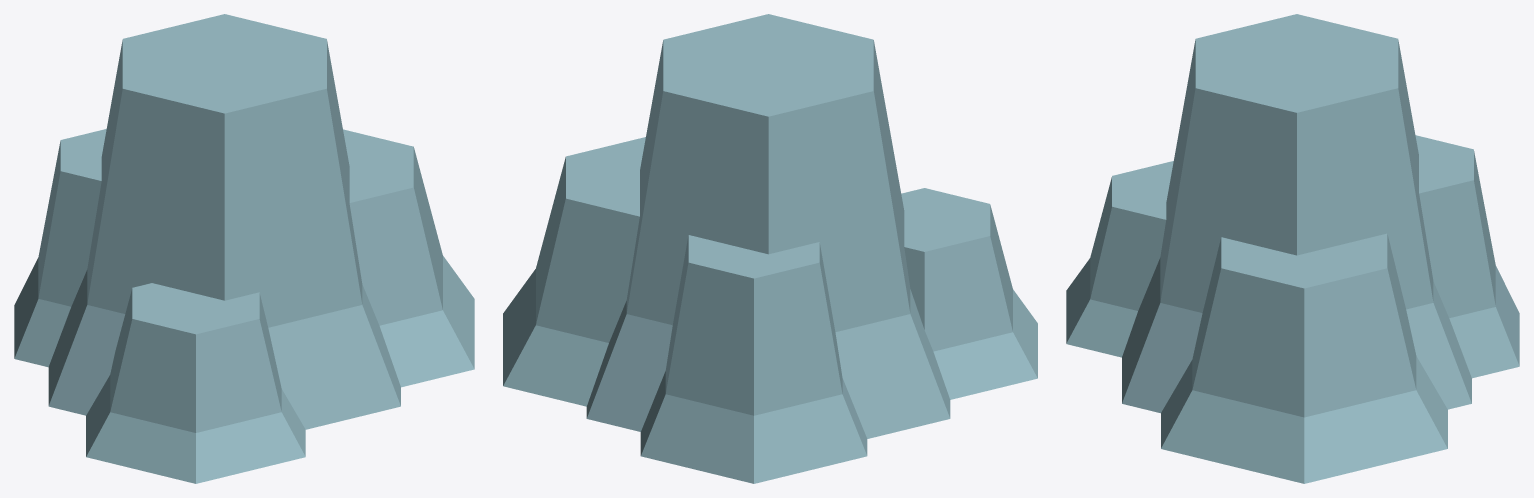
The model's file is rocksTall.dae.
The picture shows the model from 3 angles, left to right: view 1: azimuth 30°, elevation 25°; view 2: azimuth 150°, elevation 25°; view 3: azimuth 270°, elevation 25°; orthographic projection. The views are drawn at different scales.
Visible parts, largest first — view 1: rocksTall; view 2: rocksTall; view 3: rocksTall.
Boxes of the visible parts, x1,y1,x2,y2 form: rocksTall: [14, 14, 474, 483]; rocksTall: [503, 14, 1037, 483]; rocksTall: [1066, 14, 1519, 483].
Size of the model in its own units: 0.9342 by 0.59 by 0.8148.
